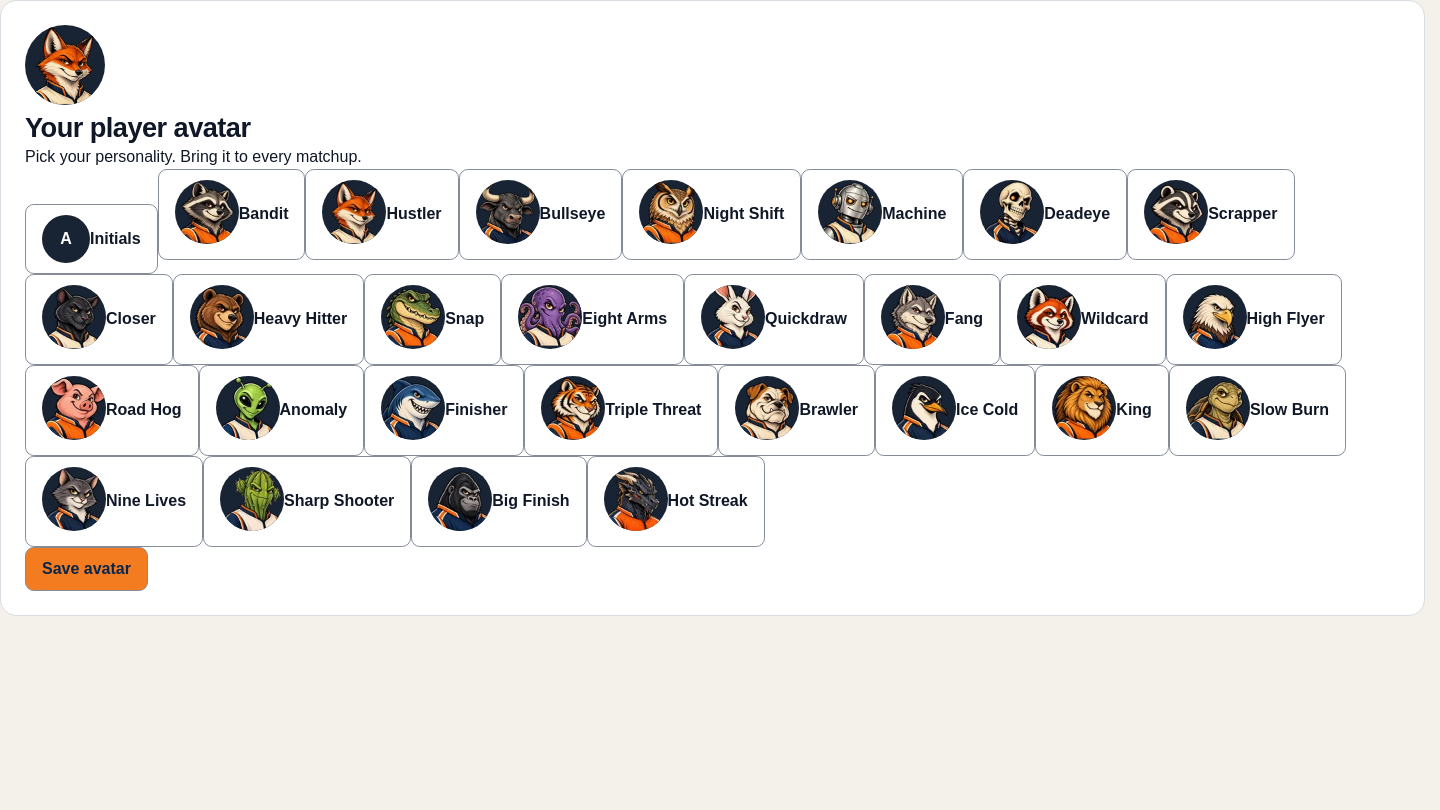
Test: shows the current avatar and explains a confirmed but superseded save
What coordinates should you click on to do the following:
click the button "Save avatar"
I would click on:
 (86, 569)
Its box is 25,547 -> 148,591.
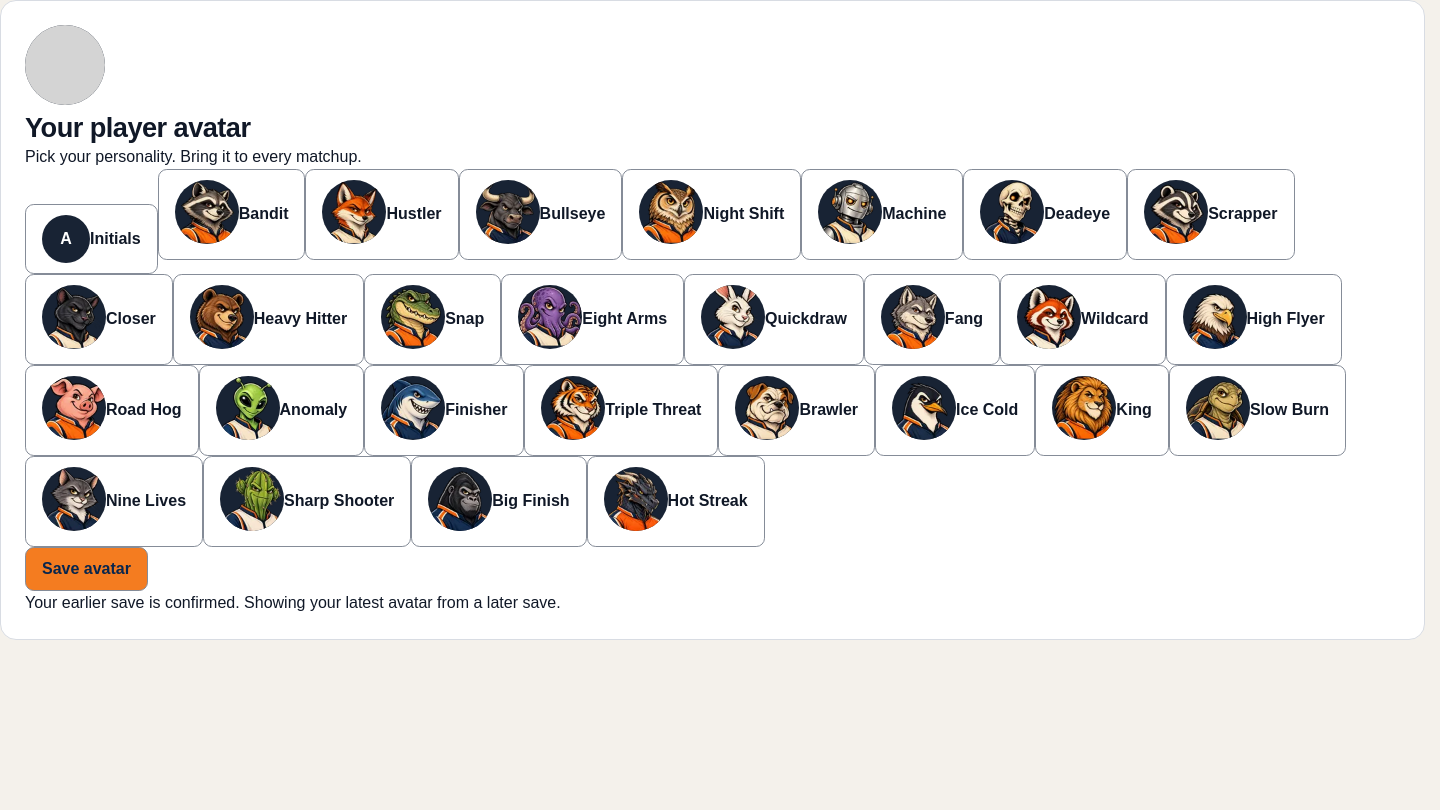
Check: the text "Your earlier save is confirmed. Showing your latest avatar from a later save." is shown, box 25,594 -> 561,611
